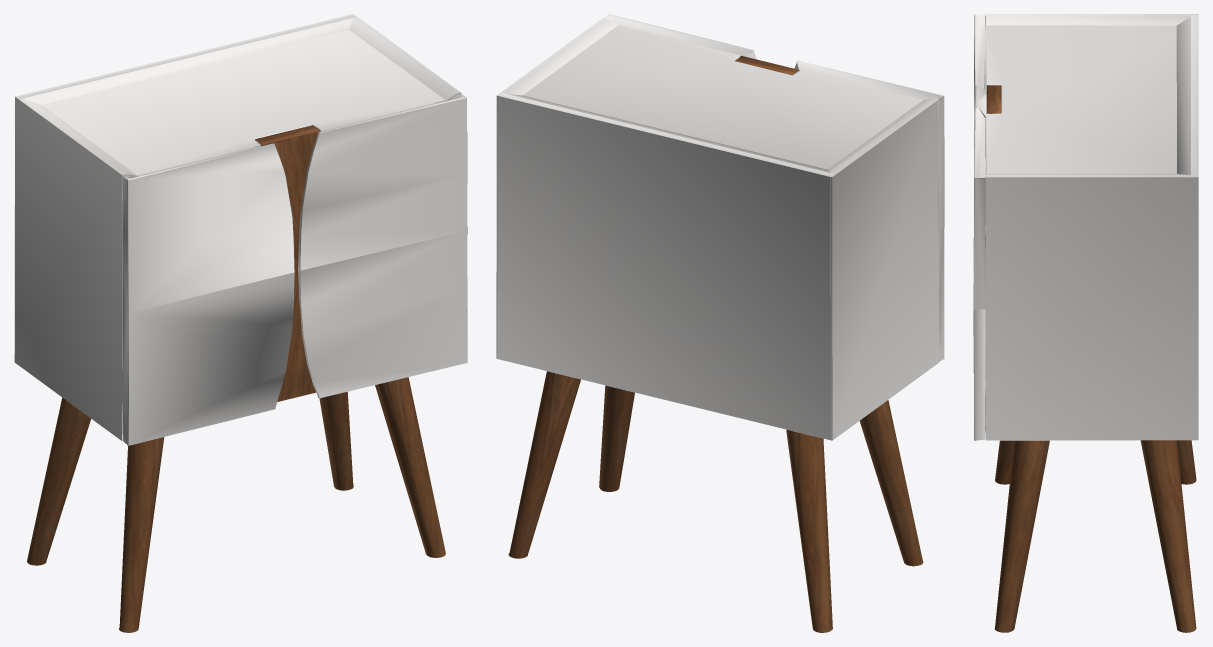
3 renders of one model, left to right at view 1: azimuth 30°, elevation 25°; view 2: azimuth 150°, elevation 25°; view 3: azimuth 270°, elevation 25°, orthographic.
Visible parts, largest first — view 1: visual_RootNode; view 2: visual_RootNode; view 3: visual_RootNode.
Part boxes in pixels (left/top/right/bottom): visual_RootNode: left=14, top=14, right=467, bottom=632; visual_RootNode: left=496, top=14, right=944, bottom=632; visual_RootNode: left=973, top=14, right=1198, bottom=632.
Bounding box in the file's own units: 0.5903 × 0.3436 × 0.7712.
Materials: 1 (1 with a texture image).
